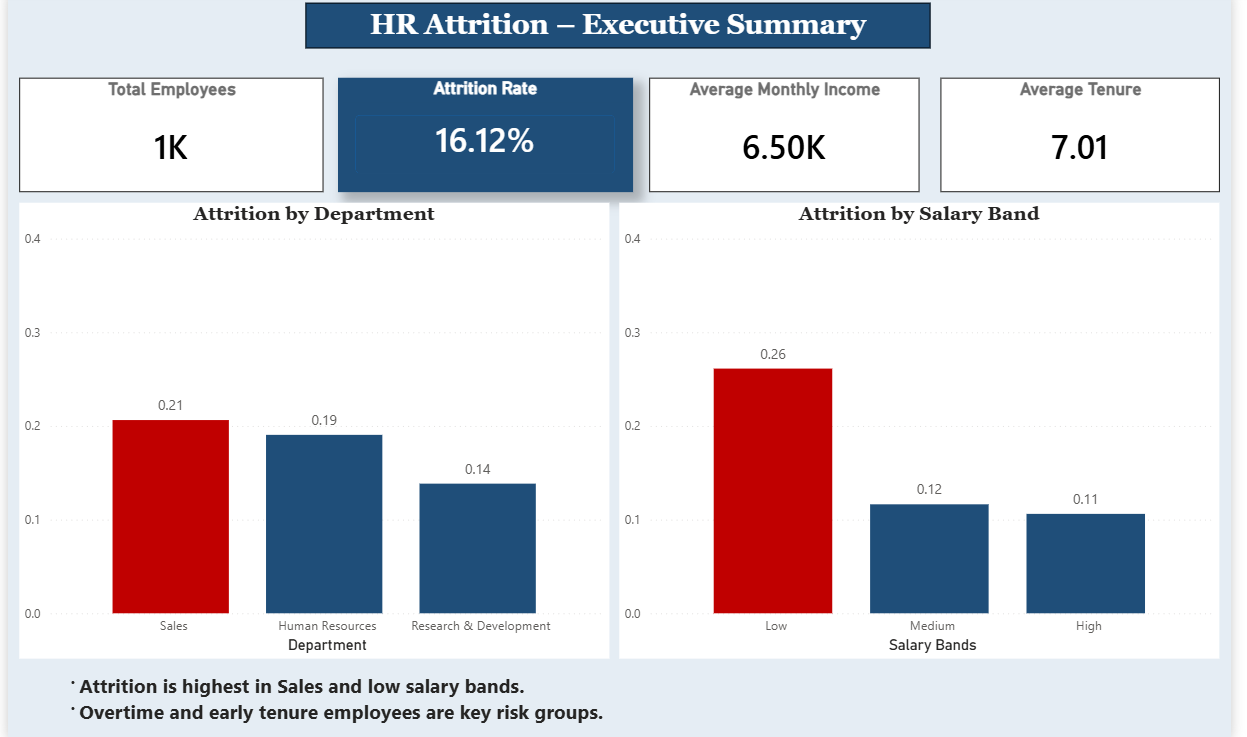

What the dashboard file says about the page in this screenshot:
{"tool":"powerbi","page":{"name":"EXECUTIVE SUMMARY","canvas":[1180,720],"ordinal":0},"visuals":[{"type":"cardVisual","title":"Total Employees","fields":{"Data":["hr_attrition_fe.Total Employees"]},"box":[11.4,81,293.5,110.1],"z":0},{"type":"cardVisual","title":"Attrition Rate","fields":{"Data":["hr_attrition_fe.Attrition Rate"]},"box":[318.8,81,284.6,110.1],"z":1000},{"type":"cardVisual","title":"Average Monthly Income","fields":{"Data":["Avg(hr_attrition_fe.MonthlyIncome)"]},"box":[618.6,81,260.6,110.1],"z":2000},{"type":"cardVisual","title":"Average Tenure","fields":{"Data":["Avg(hr_attrition_fe.YearsAtCompany)"]},"box":[899.4,81,269.4,110.1],"z":3000},{"type":"clusteredColumnChart","title":"Attrition by Department","fields":{"Category":["hr_attrition_fe.Department"],"Y":["hr_attrition_fe.Attrition Rate"]},"box":[11.4,201.1,569.3,440.2],"z":4000},{"type":"clusteredColumnChart","title":"Attrition by Salary Band","fields":{"Category":["hr_attrition_fe.SalaryBand"],"Y":["hr_attrition_fe.Attrition Rate"]},"box":[589.5,201.1,579.4,440.2],"z":5000},{"type":"textbox","box":[45.5,650.2,1108.2,69.6],"z":6000},{"type":"textbox","box":[287.2,8.9,603.4,44.3],"z":7000}]}

Visuals, with their boxes on the page's 1180x720 design canvas (x1, y1, x2, y2). These are canvas units, not pixel positions in the 1247x737 screenshot, which may show the page scaled, cropped or inside an application window:
"Total Employees" cardVisual: detection(11, 81, 305, 191)
"Attrition Rate" cardVisual: detection(319, 81, 603, 191)
"Average Monthly Income" cardVisual: detection(619, 81, 879, 191)
"Average Tenure" cardVisual: detection(899, 81, 1169, 191)
"Attrition by Department" clusteredColumnChart: detection(11, 201, 581, 641)
"Attrition by Salary Band" clusteredColumnChart: detection(590, 201, 1169, 641)
textbox: detection(46, 650, 1154, 720)
textbox: detection(287, 9, 891, 53)
